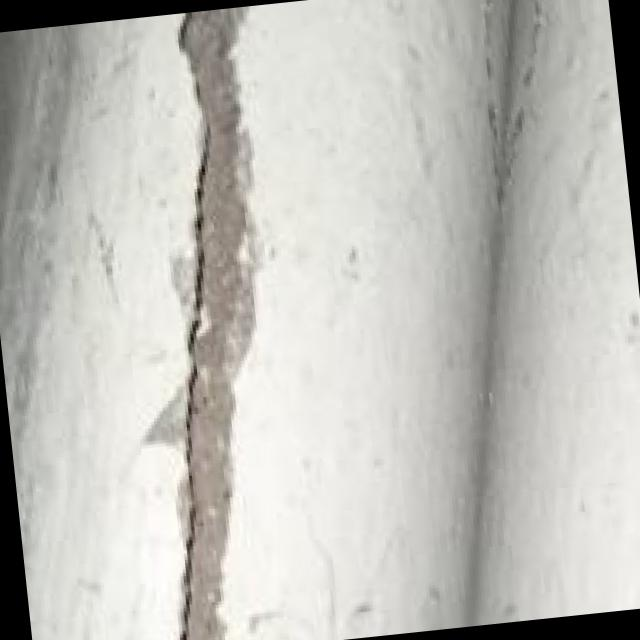crack: (51, 2, 353, 640)
